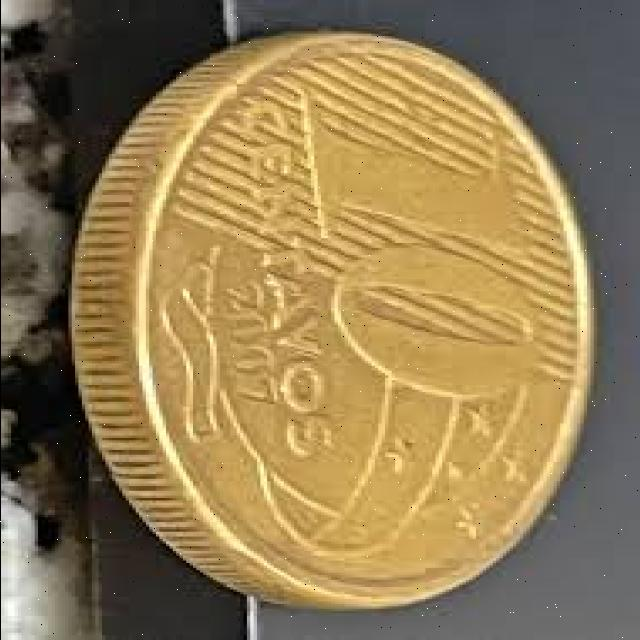10 cent: (111, 61, 595, 603)
